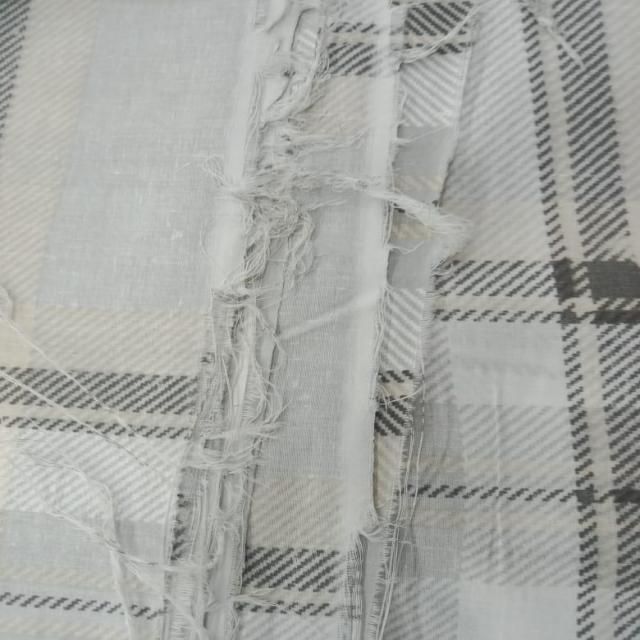cut: (138, 12, 472, 618)
